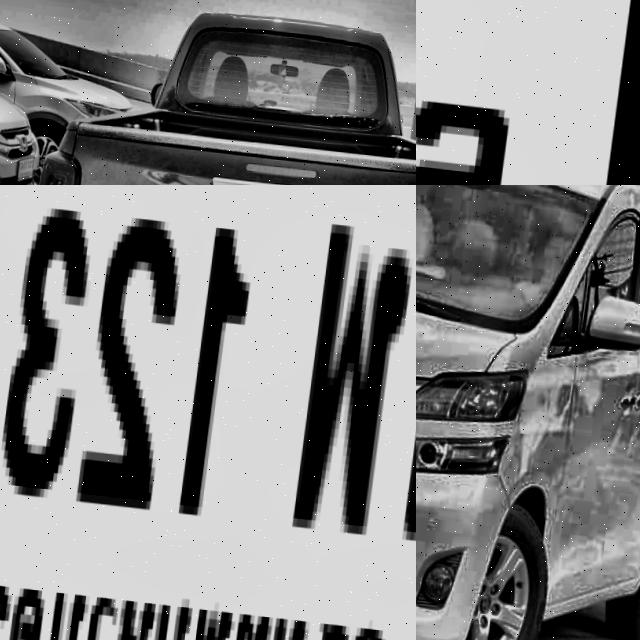license-plate: (0, 185, 416, 640), (416, 0, 640, 185), (20, 151, 43, 185)
